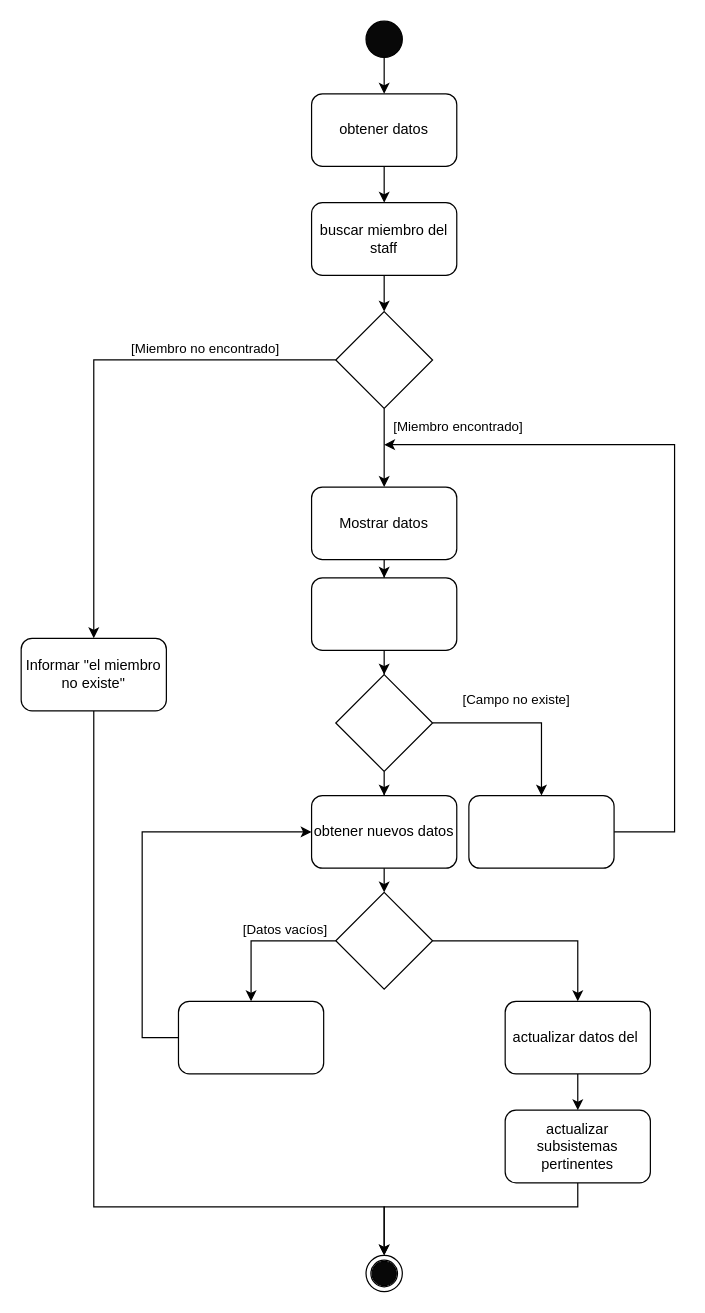
Some shapes in this 705 by 1313 pixel diagram are drawn without their labels. Each missing label, with the centre of its shape:
Informar "campo vacío": point (250, 1037)
Informar "el campo no existe": point (541, 831)
obtener campo a modificar: point (383, 613)
